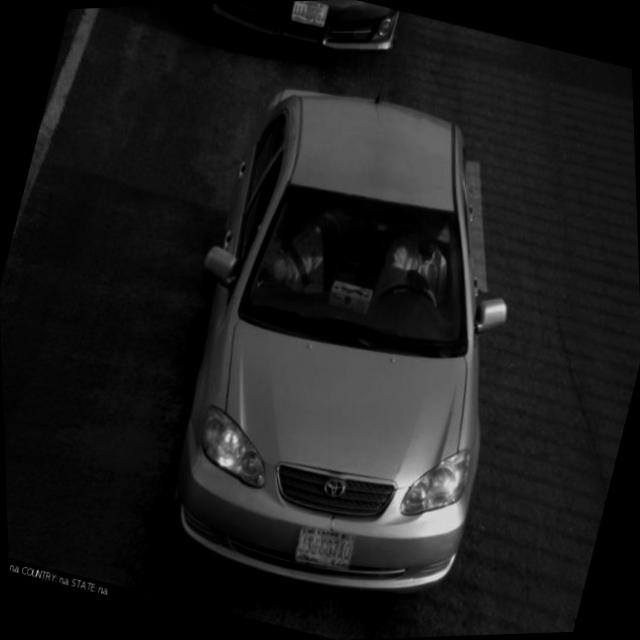person_without_seatbelt: (365, 210, 468, 326)
